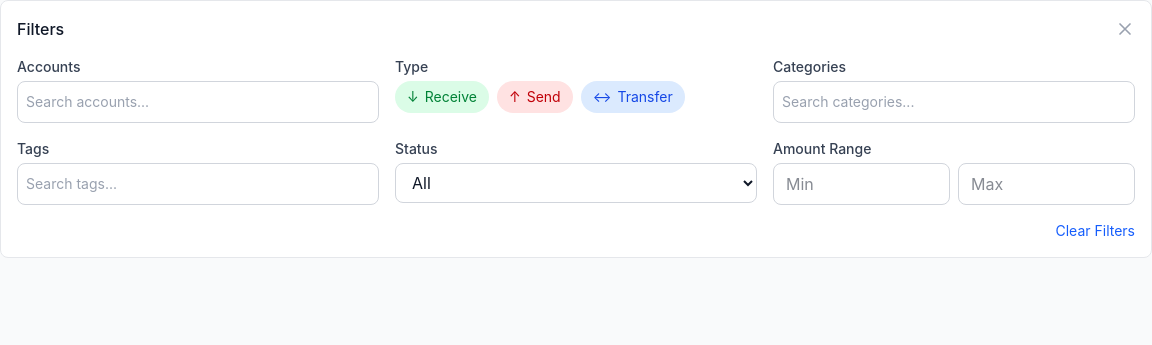
Test: FilterPanel › folder and category display › should show both folders and categories in dropdown
Note: Click on category search to open dropdown
Click the field with placeholder "Search categories...".
click(954, 102)  # box [782,92,1126,112]
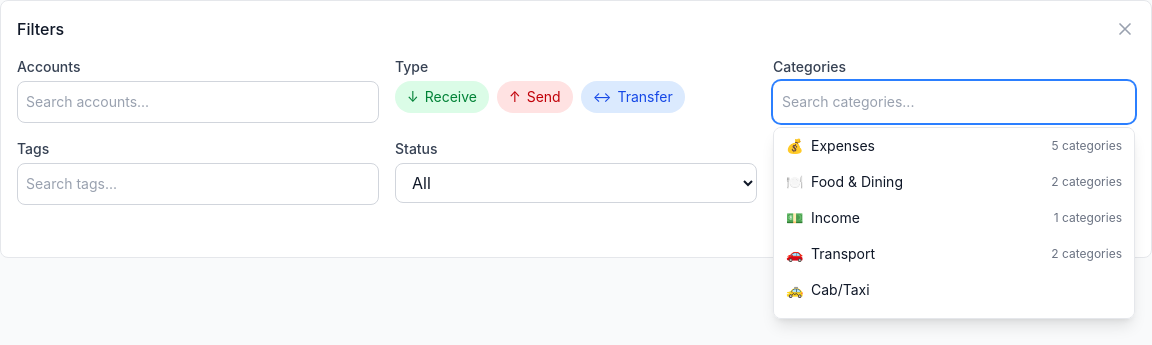
Check: the text "Expenses" is shown, box [811,137,875,154]
Check: the text "Food & Dining" is shown, box [811,173,903,190]
Check: the text "Transport" is shown, box [811,245,875,262]
